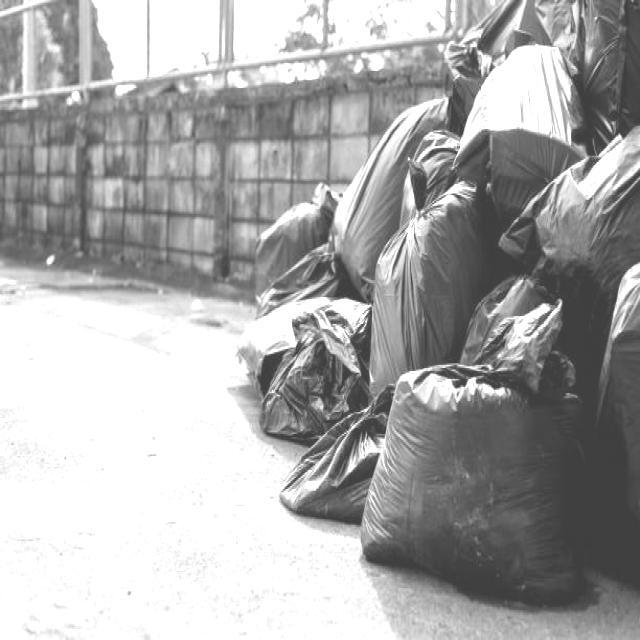high trash: (239, 0, 640, 603)
